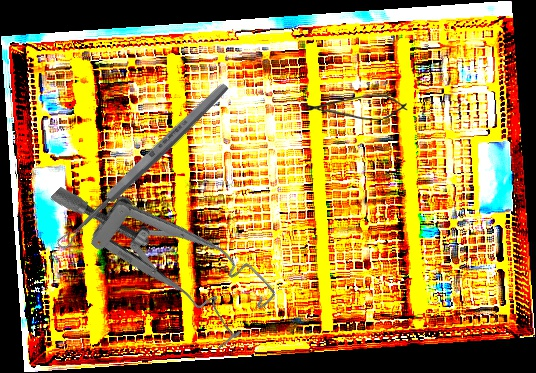Micro Scissor: (300, 94, 409, 121)
Speculum: (48, 129, 280, 365)
Surgical Spoon: (53, 80, 232, 252)
